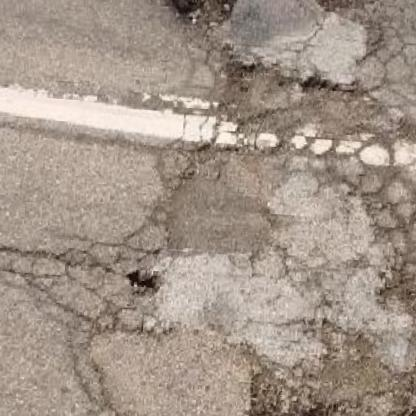pothole: (161, 0, 246, 31), (122, 263, 160, 299), (299, 0, 369, 19)
